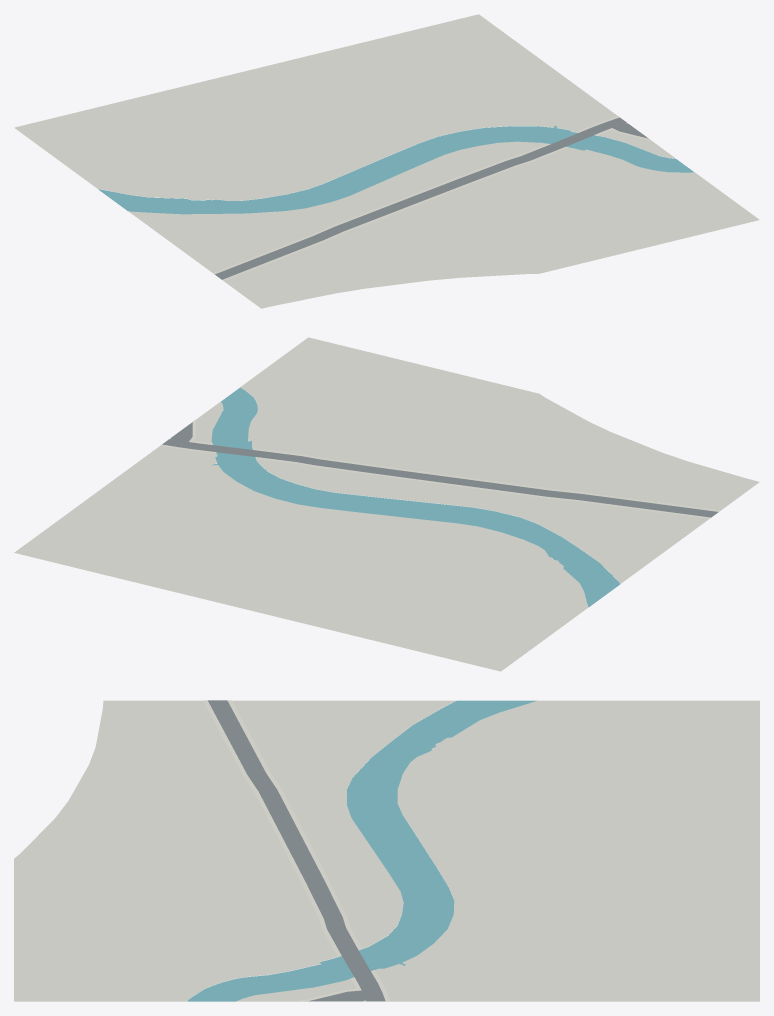
3 views of the same model, one above another, from view 1: azimuth 30°, elevation 25°; view 2: azimuth 150°, elevation 25°; view 3: azimuth 270°, elevation 25° (orthographic). The views are drawn at different scales.
Visible parts, largest first — view 1: city; view 2: city; view 3: city.
Part boxes in pixels (box(x1,y1,x2,y2)): city: box(14, 14, 759, 308); city: box(14, 337, 759, 671); city: box(14, 700, 759, 1001).
Bounding box in the file's own units: 477 × 0.4 × 500.
